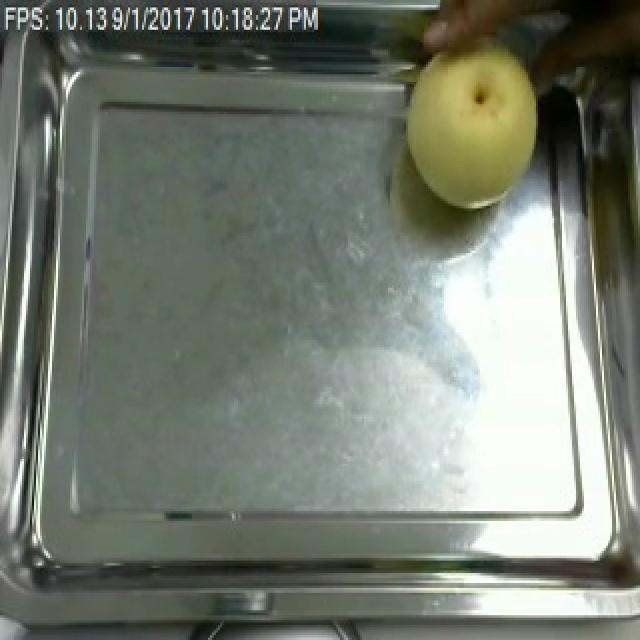Fruit: (392, 28, 552, 218)
